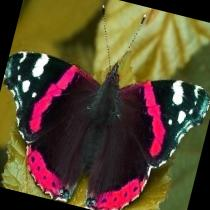butterfly: (3, 52, 210, 210)
